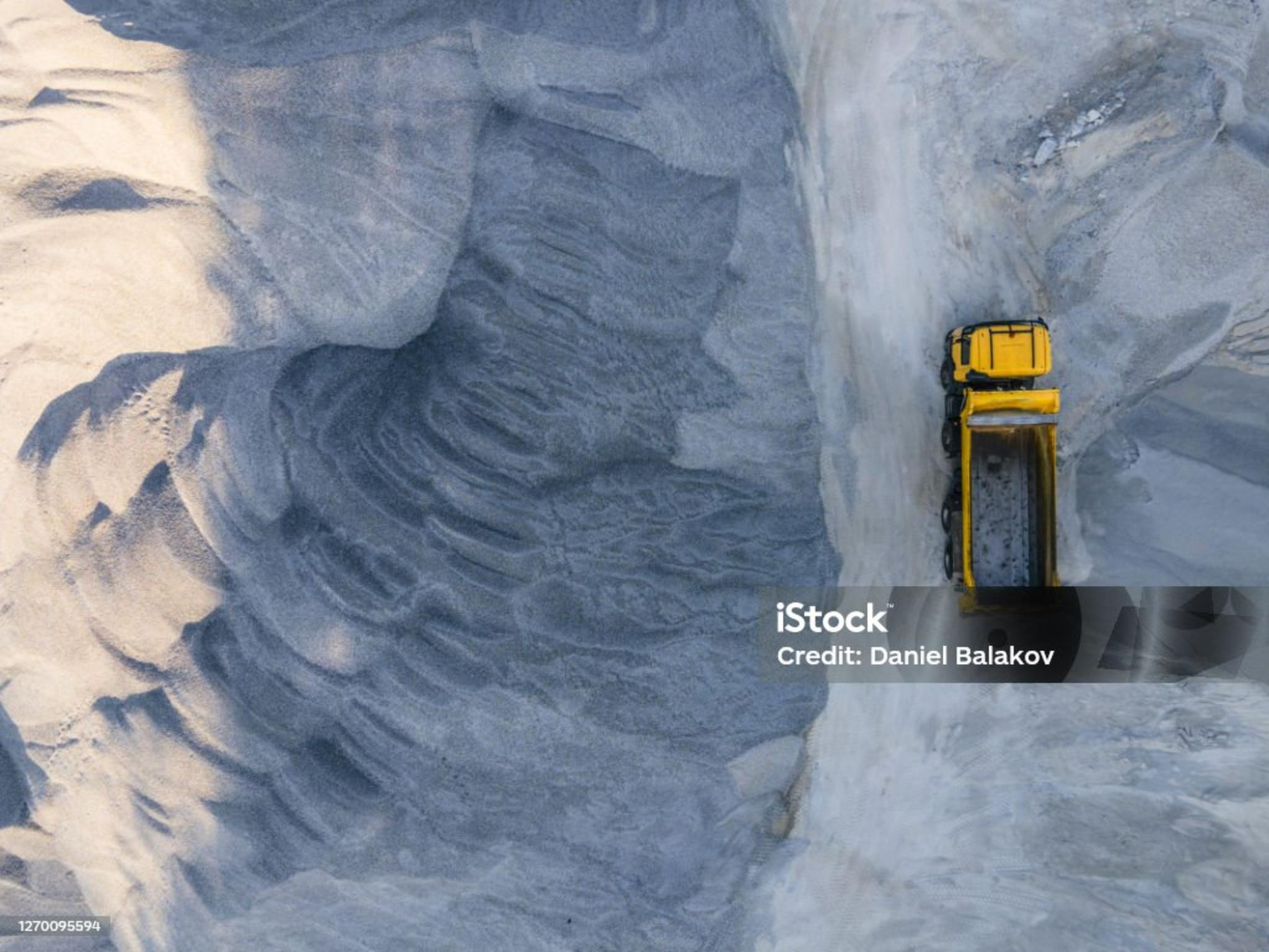truck: (965, 310, 1064, 640)
